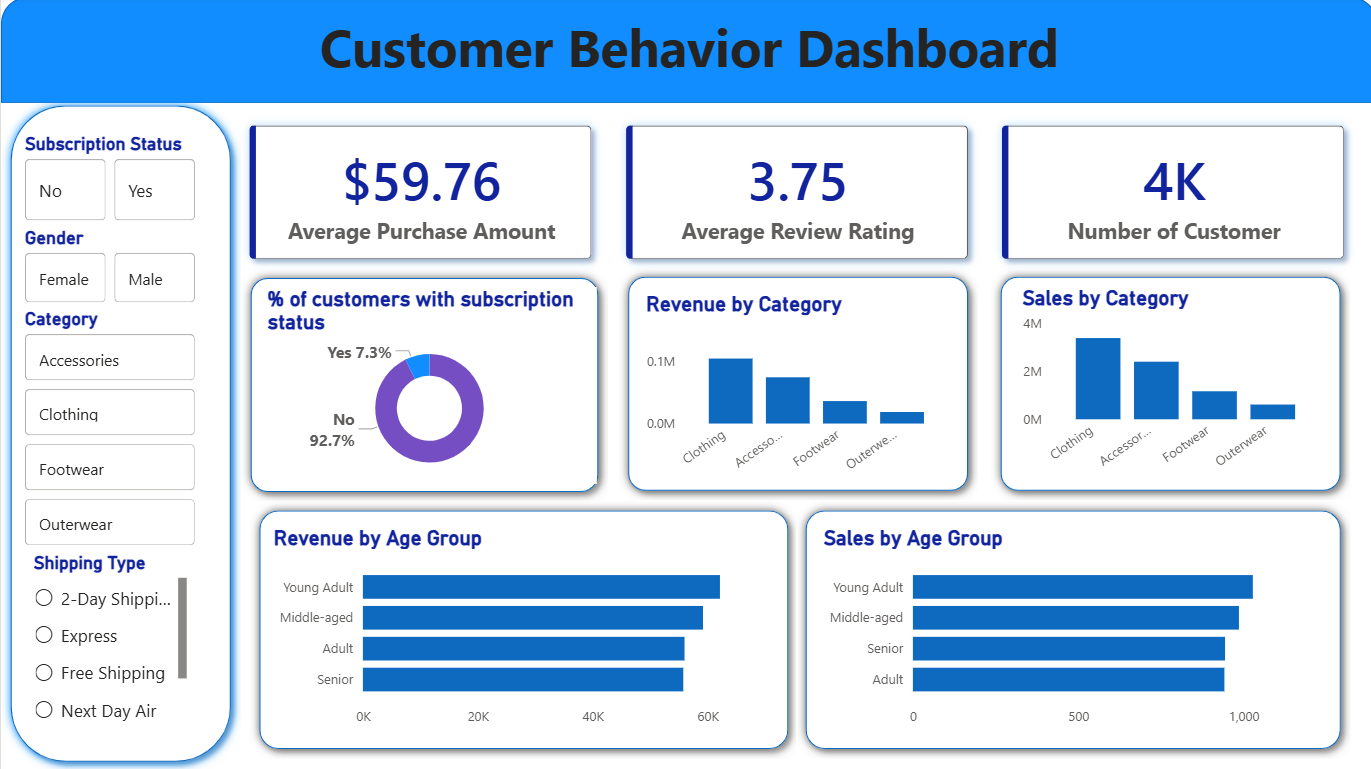

Layout of this report page (visuals, bound fields, positions):
{"tool":"powerbi","page":{"name":"Page 1","canvas":[1280,720],"ordinal":0},"visuals":[{"type":"cardVisual","fields":{"Data":["customer_behavior customer.Average Purchase Amount","customer_behavior customer.Average Review Rating","customer_behavior customer.Number of Customer"]},"box":[202.4,91.2,1077.6,182.4],"z":0},{"type":"shape","box":[0,0,1280.3,98.8],"z":1000},{"type":"textbox","box":[0,8.2,1280.3,82.3],"z":2000},{"type":"shape","box":[222.9,252.9,341.4,217.1],"z":3000},{"type":"donutChart","title":"% of customers with subscription status ","fields":{"Category":["customer_behavior customer.subscription_status"],"Y":["Sum(customer_behavior customer.customer_id)"]},"box":[242.9,270,311.4,182.9],"z":4000},{"type":"shape","box":[0,91.4,222.9,628.6],"z":5000},{"type":"advancedSlicerVisual","title":"Subscription Status","fields":{"Values":["customer_behavior customer.subscription_status"]},"box":[17.1,127.1,168.6,87.1],"z":6000},{"type":"advancedSlicerVisual","title":"Gender","fields":{"Values":["customer_behavior customer.gender"]},"box":[17.1,214.3,168.6,75.7],"z":7000},{"type":"advancedSlicerVisual","title":"Category","fields":{"Values":["customer_behavior customer.category"]},"box":[17.1,290,168.6,225.7],"z":8000},{"type":"listSlicer","title":"Shipping Type","fields":{"Values":["customer_behavior customer.shipping_type"]},"box":[25.7,515.7,152.9,171.4],"z":9000},{"type":"shape","box":[574.3,251.4,334.3,217.1],"z":10000},{"type":"clusteredColumnChart","title":"Revenue by Category","fields":{"Y":["Sum(customer_behavior customer.purchase_amount)"],"Category":["customer_behavior customer.category"]},"box":[595.7,274.3,291.4,178.6],"z":11000},{"type":"shape","box":[921.4,251.4,334.3,217.1],"z":12000},{"type":"clusteredColumnChart","title":"Sales by Category","fields":{"Category":["customer_behavior customer.category"],"Y":["Sum(customer_behavior customer.customer_id)"]},"box":[945.7,268.6,287.1,181.4],"z":13000},{"type":"shape","box":[231.4,468.6,510,240],"z":14000},{"type":"clusteredBarChart","title":"Revenue by Age Group","fields":{"Y":["Sum(customer_behavior customer.purchase_amount)"],"Category":["customer_behavior customer.age_group"]},"box":[248.6,491.4,477.1,195.7],"z":15000},{"type":"shape","box":[740,468.6,515.7,240],"z":16000},{"type":"clusteredBarChart","title":"Sales by Age Group","fields":{"Category":["customer_behavior customer.age_group"],"Y":["CountNonNull(customer_behavior customer.customer_id)"]},"box":[760,491.4,477.1,195.7],"z":17000}]}

Visuals, with their boxes in screenshot pixels (x1, y1, x2, y2), scaled from the page's 1280x720 canvas onto the 1371x769 screenshot:
cardVisual - customer_behavior customer.Average Purchase Amount x customer_behavior customer.Average Review Rating: locate(217, 97, 1370, 292)
shape: locate(0, 0, 1370, 106)
textbox: locate(0, 9, 1370, 97)
shape: locate(239, 270, 604, 502)
"% of customers with subscription status " donutChart: locate(260, 288, 594, 484)
shape: locate(0, 98, 239, 768)
"Subscription Status" advancedSlicerVisual: locate(18, 136, 199, 229)
"Gender" advancedSlicerVisual: locate(18, 229, 199, 310)
"Category" advancedSlicerVisual: locate(18, 310, 199, 551)
"Shipping Type" listSlicer: locate(28, 551, 191, 734)
shape: locate(615, 269, 973, 500)
"Revenue by Category" clusteredColumnChart: locate(638, 293, 950, 484)
shape: locate(987, 269, 1345, 500)
"Sales by Category" clusteredColumnChart: locate(1013, 287, 1320, 481)
shape: locate(248, 500, 794, 757)
"Revenue by Age Group" clusteredBarChart: locate(266, 525, 777, 734)
shape: locate(793, 500, 1345, 757)
"Sales by Age Group" clusteredBarChart: locate(814, 525, 1325, 734)
